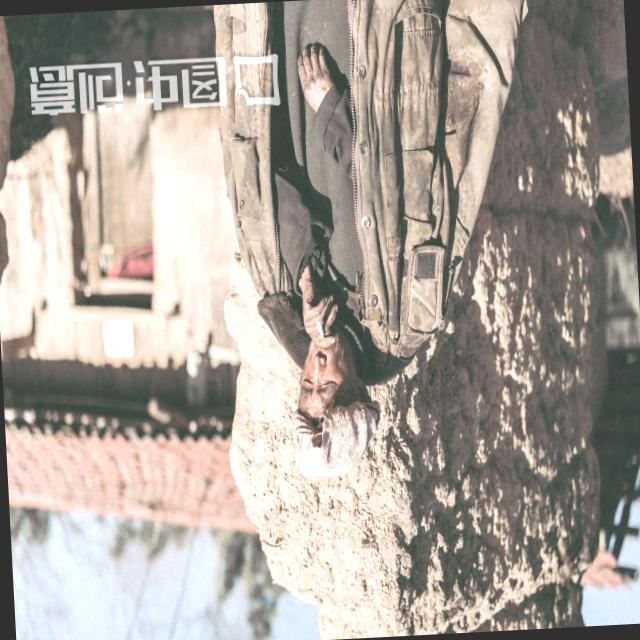cigarette: (314, 316, 331, 340)
